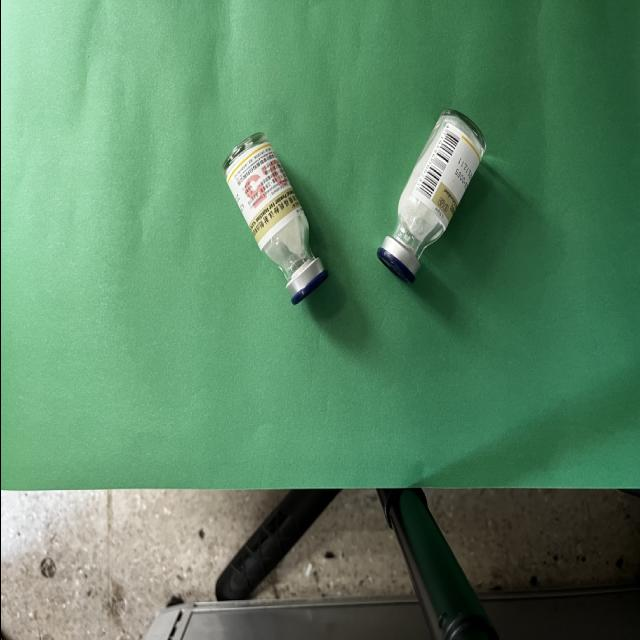Vials: (376, 109, 487, 283), (222, 132, 328, 305)
